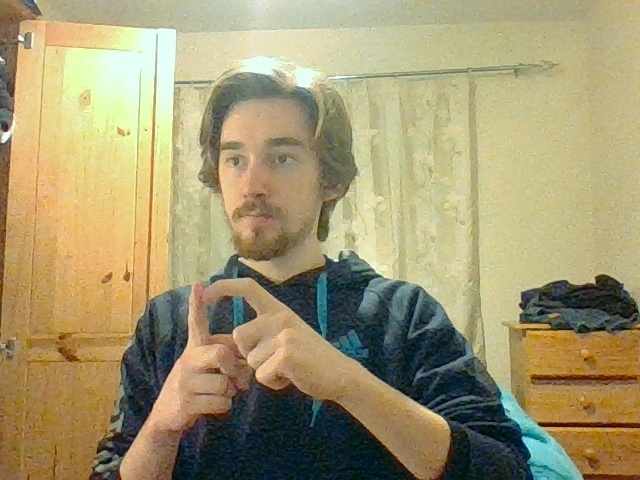daughter: (180, 276, 291, 400)
